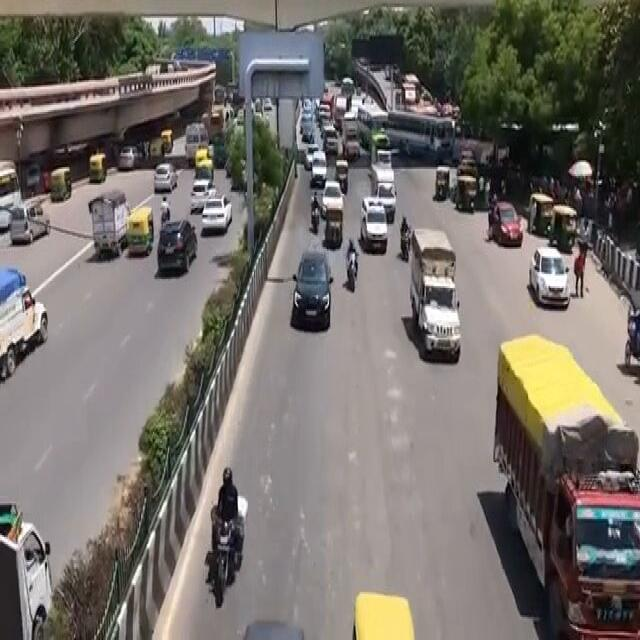three_wheeler: (433, 158, 450, 214)
